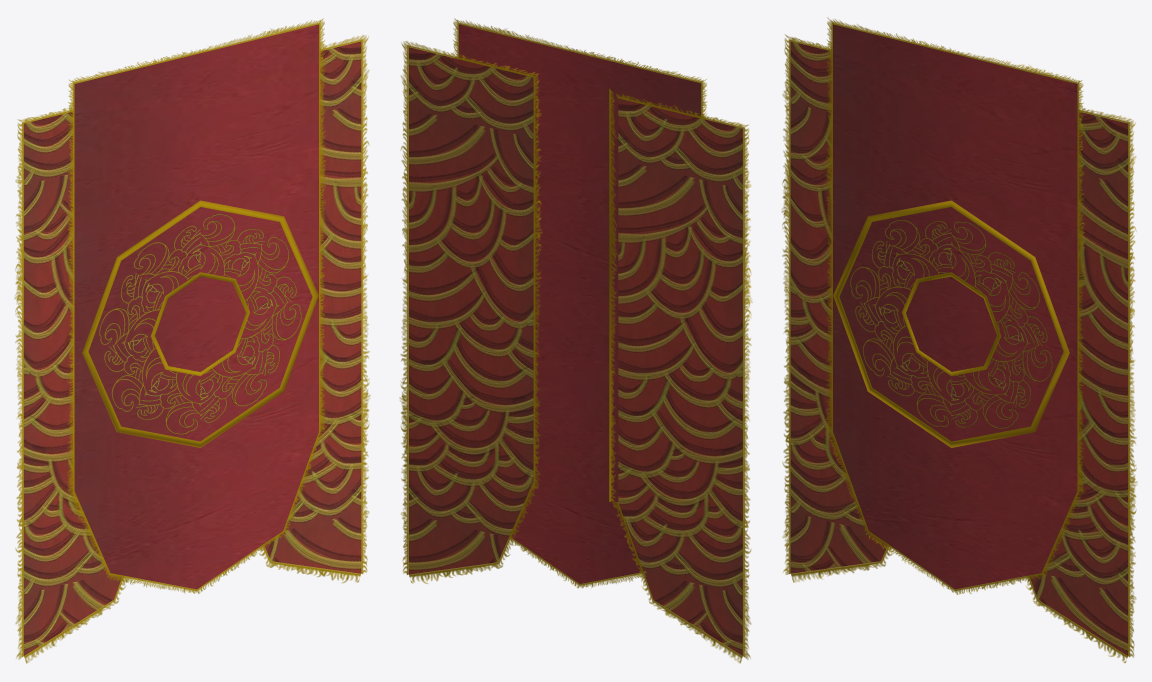
File: banner.glb
3 views of the same model, side by side, from view 1: azimuth 30°, elevation 25°; view 2: azimuth 150°, elevation 25°; view 3: azimuth 330°, elevation 25° (orthographic).
Visible parts, largest first — view 1: Banner; view 2: Banner; view 3: Banner.
Part boxes in pixels (box(x1,y1,x2,y2)): Banner: box(14, 18, 370, 663); Banner: box(399, 18, 752, 663); Banner: box(781, 17, 1137, 662).
Size of the model in its own units: 2.09 by 3.27 by 0.0843.
3 materials, 3 textured.
